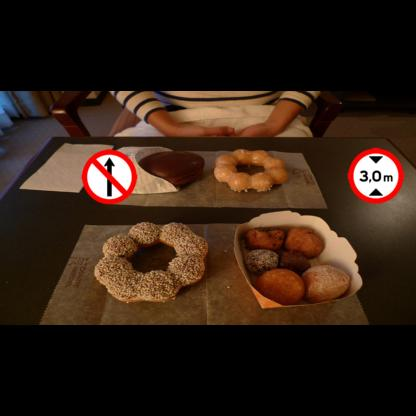R-15: (348, 148, 404, 203)
R-3: (82, 149, 137, 204)
